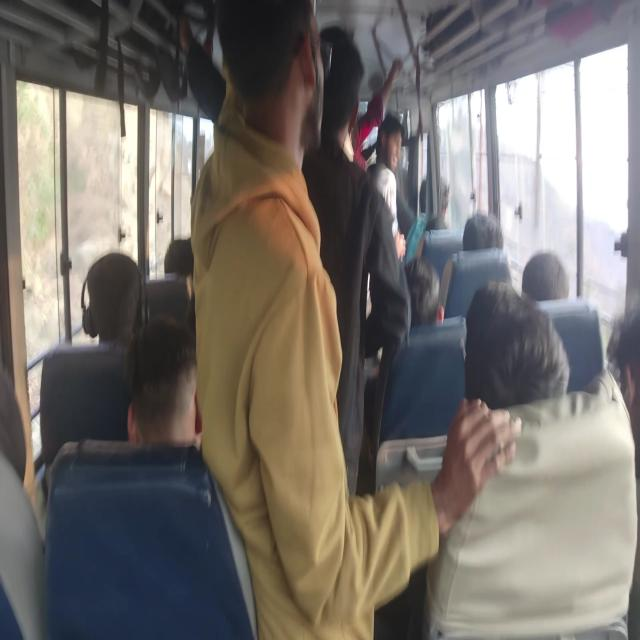person: (131, 320, 230, 465), (223, 12, 312, 156), (462, 277, 552, 398), (68, 250, 146, 346), (0, 382, 41, 545), (320, 23, 361, 148), (406, 255, 450, 338), (523, 250, 571, 326), (609, 295, 640, 410), (163, 225, 205, 282), (417, 175, 460, 223), (384, 99, 406, 166), (462, 216, 496, 256)
